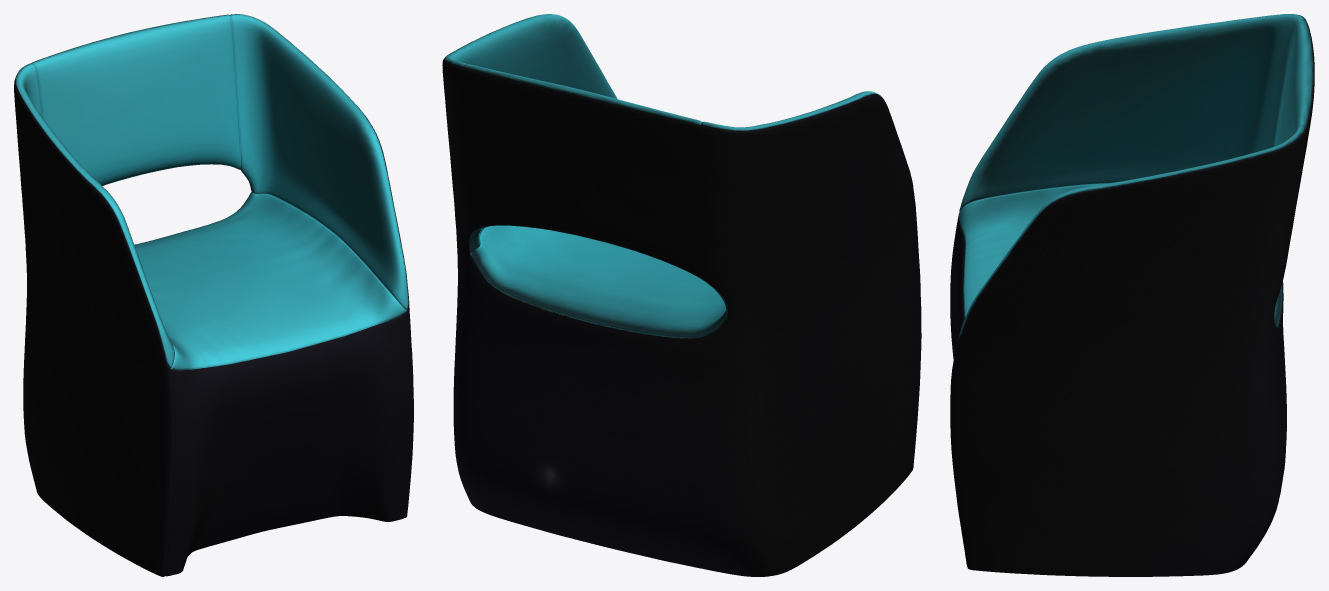
Rendered from avila_black_upholstered.glb.
3 renders of one model, left to right at view 1: azimuth 30°, elevation 25°; view 2: azimuth 150°, elevation 25°; view 3: azimuth 270°, elevation 25°, orthographic. The views are drawn at different scales.
Parts seen in each view (by area): view 1: ь; view 2: ь; view 3: ь.
Part boxes in pixels (x1,y1,x2,y2): ь: (14, 14, 413, 576); ь: (442, 14, 921, 576); ь: (950, 14, 1314, 576).
Bounding box in the file's own units: 0.5518 × 0.7525 × 0.5698.
Materials: 1 (1 with a texture image).
